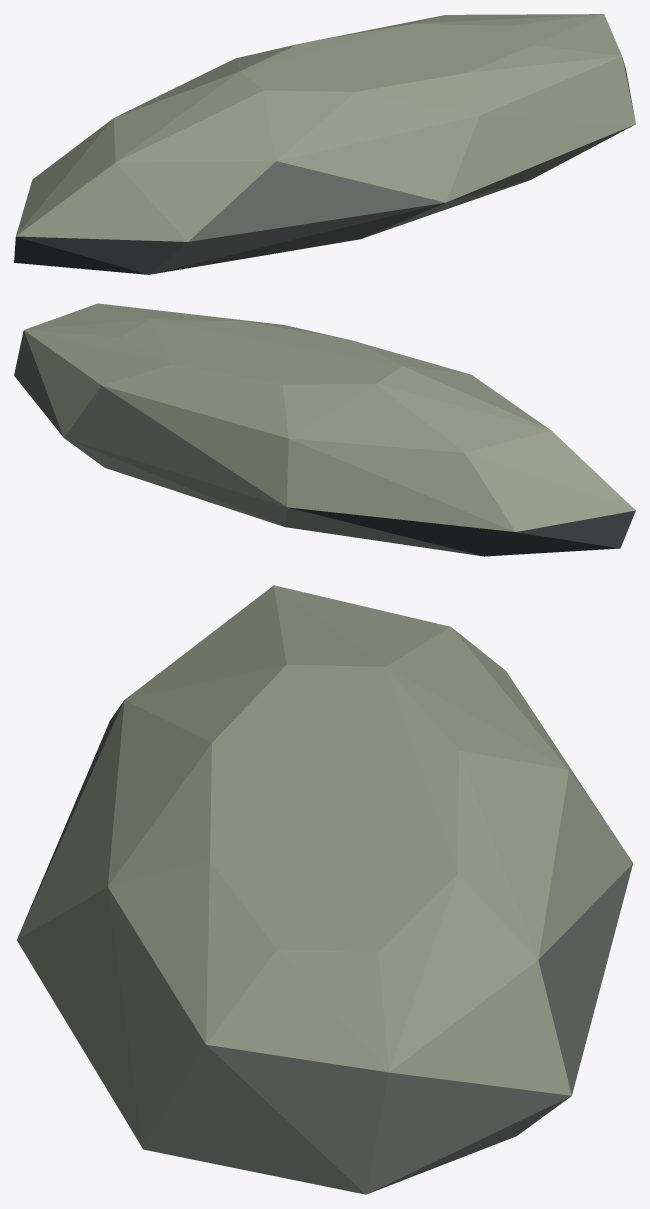
Rendered from TW_ROCK_FLAT_SLAB_B_LOD0.glb.
The picture shows the model from 3 angles, top to bottom: view 1: azimuth 30°, elevation 25°; view 2: azimuth 150°, elevation 25°; view 3: azimuth 270°, elevation 25°; orthographic projection. The views are drawn at different scales.
Visible parts, largest first — view 1: TW_ROCK_FLAT_SLAB_B_LOD0; view 2: TW_ROCK_FLAT_SLAB_B_LOD0; view 3: TW_ROCK_FLAT_SLAB_B_LOD0.
Boxes of the visible parts, x1,y1,x2,y2 form: TW_ROCK_FLAT_SLAB_B_LOD0: [14, 14, 635, 274]; TW_ROCK_FLAT_SLAB_B_LOD0: [14, 303, 635, 556]; TW_ROCK_FLAT_SLAB_B_LOD0: [17, 585, 633, 1194].
Size of the model in its own units: 1.75 by 0.3269 by 0.7715.
Materials: 1 (1 with a texture image).
